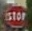stop: (4, 4, 27, 27)
